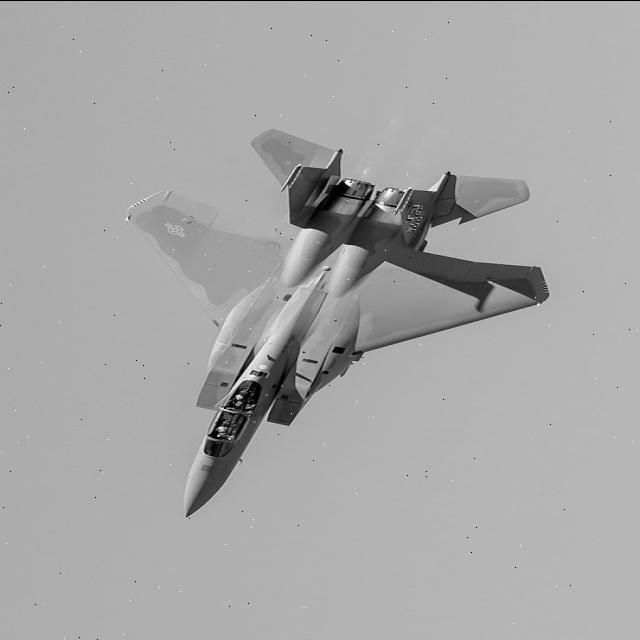F15: (72, 98, 578, 542)
